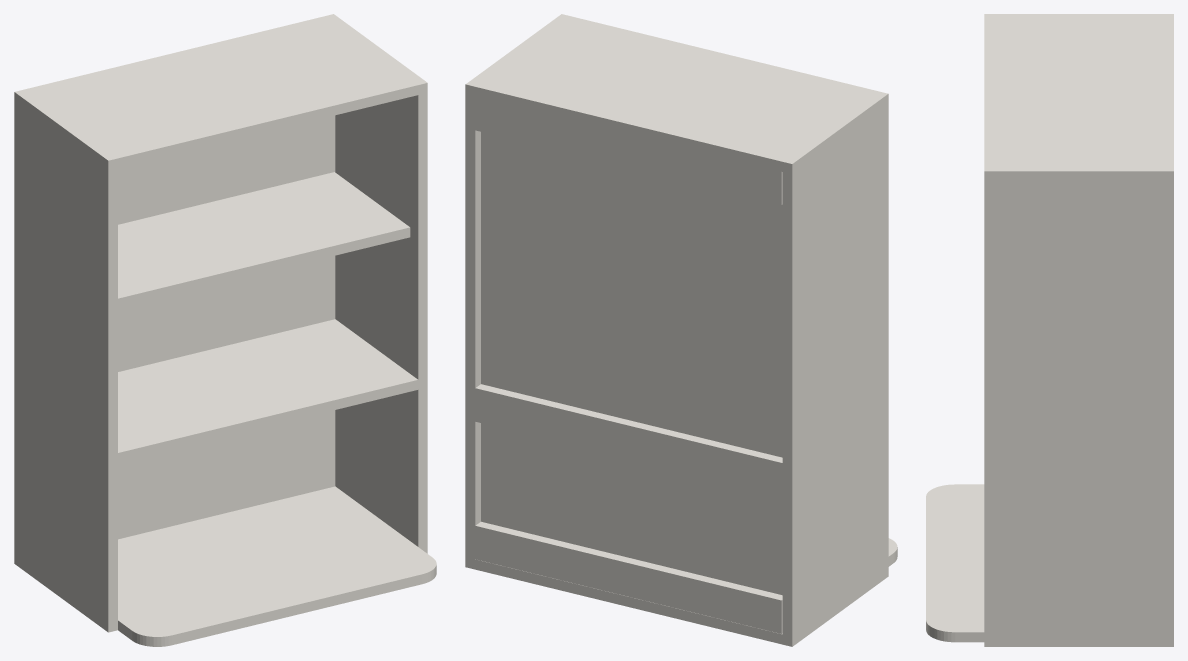
The model's file is Wall Microwave-ND.glb.
The picture shows the model from 3 angles, left to right: view 1: azimuth 30°, elevation 25°; view 2: azimuth 150°, elevation 25°; view 3: azimuth 270°, elevation 25°; orthographic projection. The views are drawn at different scales.
Parts seen in each view (by area): view 1: Geom3D_UEnd (L)-A (×2), Geom3D_UBack-C, Geom3D_Bottom-B (×2), Geom3D_UEnd (R)-G (×2), Geom3D_Top-D (×2), Geom3D_Fixed Shelf-I.F (×2), Geom3D_Adjustable Shelf-I (×2); view 2: Geom3D_UBack-C, Geom3D_UEnd (L)-A (×2), Geom3D_Nailer-H (×3), Geom3D_Top-D, Geom3D_UEnd (R)-G (×2), Geom3D_Bottom-B; view 3: Geom3D_UEnd (R)-G (×2), Geom3D_Top-D, Geom3D_Bottom-B, Geom3D_UEnd (L)-A.
Boxes of the visible parts, <box> form: Geom3D_UEnd (L)-A (×2): <box>14,89,117,632</box>; Geom3D_UBack-C: <box>118,115,335,539</box>; Geom3D_Bottom-B (×2): <box>118,486,436,646</box>; Geom3D_UEnd (R)-G (×2): <box>325,14,427,553</box>; Geom3D_Top-D (×2): <box>24,16,418,168</box>; Geom3D_Fixed Shelf-I.F (×2): <box>118,319,418,462</box>; Geom3D_Adjustable Shelf-I (×2): <box>118,172,410,308</box>; Geom3D_UBack-C: <box>481,132,782,595</box>; Geom3D_UEnd (L)-A (×2): <box>782,91,888,646</box>; Geom3D_Nailer-H (×3): <box>475,97,782,633</box>; Geom3D_Top-D: <box>475,16,878,171</box>; Geom3D_UEnd (R)-G (×2): <box>465,14,570,569</box>; Geom3D_Bottom-B: <box>475,538,897,644</box>; Geom3D_UEnd (R)-G (×2): <box>984,166,1173,646</box>; Geom3D_Top-D: <box>984,18,1173,166</box>; Geom3D_Bottom-B: <box>926,484,984,642</box>; Geom3D_UEnd (L)-A: <box>984,14,1173,18</box>.
Bounding box in the file's own units: 0.6477 × 0.9144 × 0.4318.
1 material, 1 textured.
